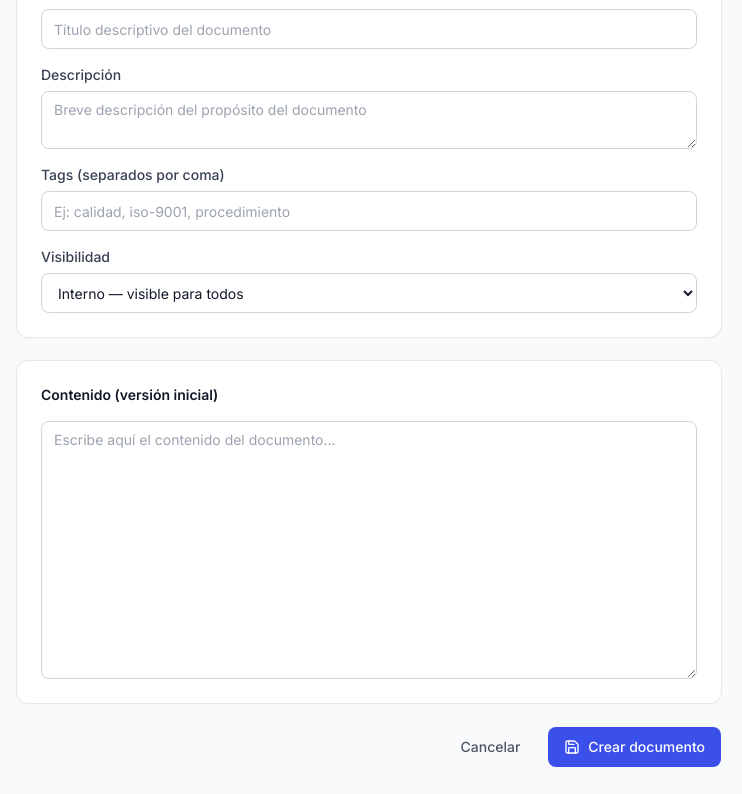
CreateDocumentPage › muestra errores de validación con campos vacíos
(page scrolled)
What coordinates should you click on to do the following:
click the button "Crear documento"
I would click on:
 (635, 747)
Its box is [548,727,721,767].
(page scrolled)
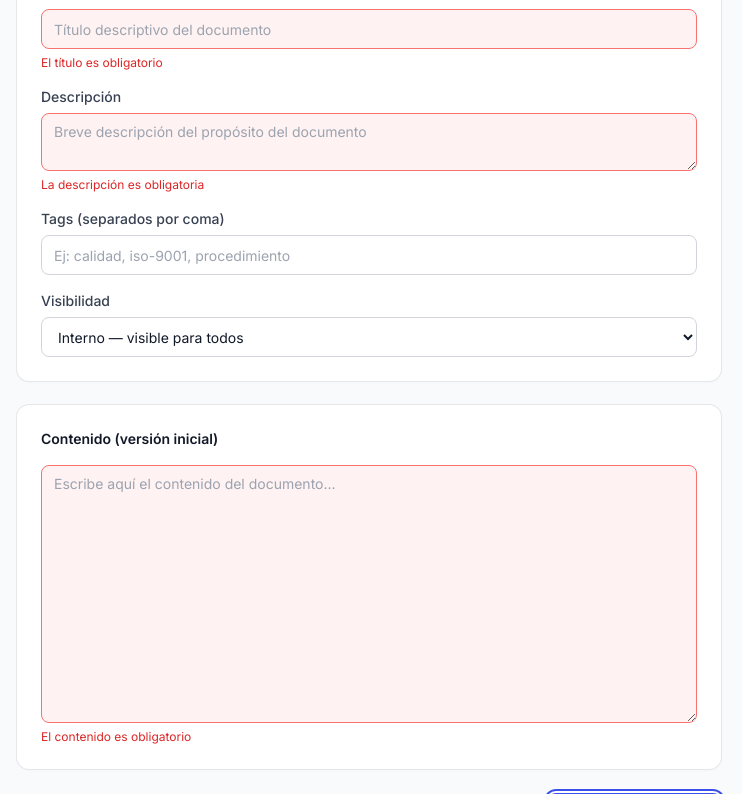
Result: the text "El título es obligatorio" is shown at [41,55,163,70]
